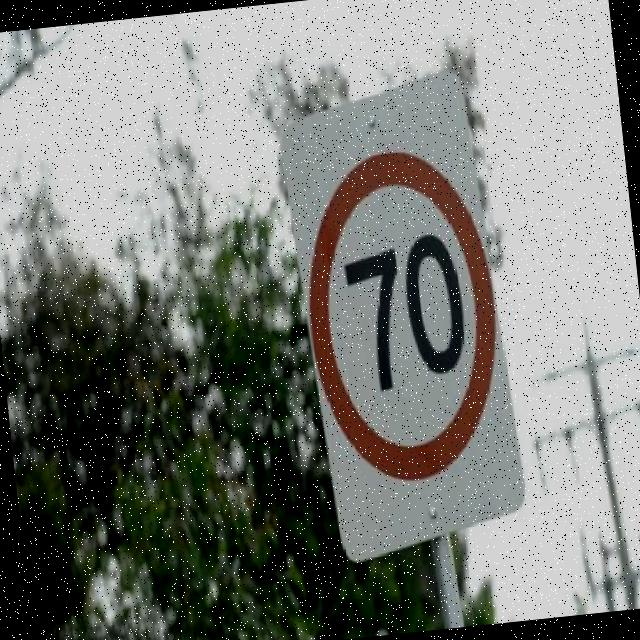Ograniczenie predkosci do 70: (294, 139, 512, 492)
